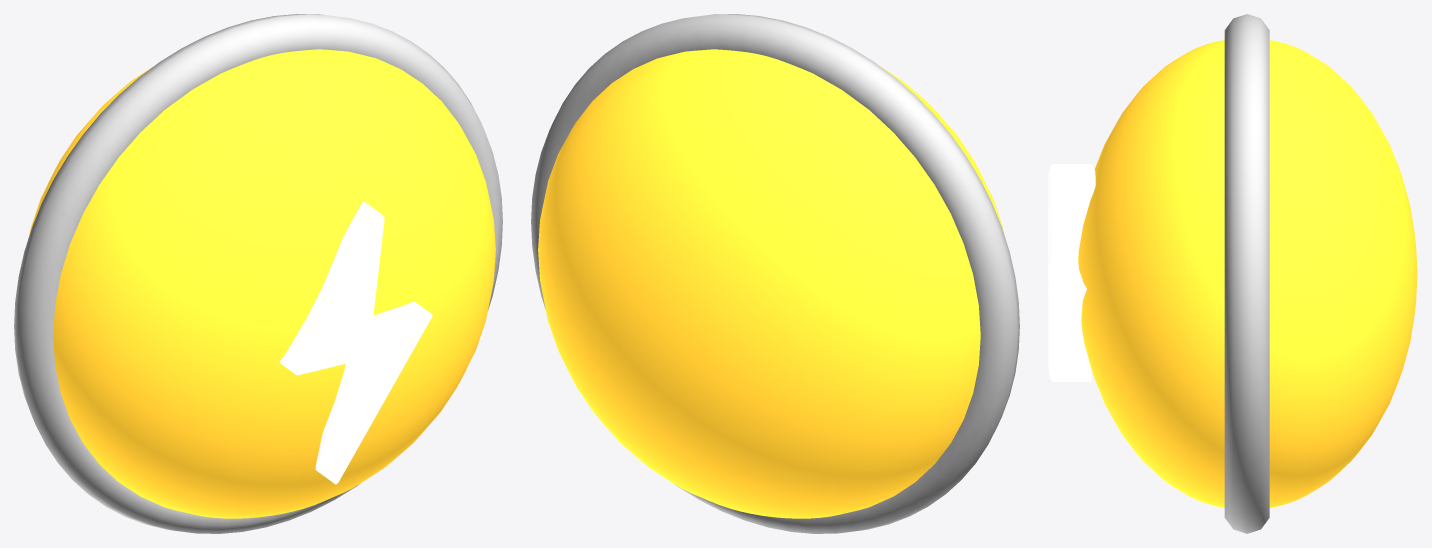
The model's file is bonus_rychla_strelba.glb.
3 renders of one model, left to right at view 1: azimuth 30°, elevation 25°; view 2: azimuth 150°, elevation 25°; view 3: azimuth 270°, elevation 25°, orthographic. The views are drawn at different scales.
Parts seen in each view (by area): view 1: bonus_rychla_strelba_koule, bonus_rychla_strelba_lem, ikona_blesk; view 2: bonus_rychla_strelba_koule, bonus_rychla_strelba_lem; view 3: bonus_rychla_strelba_koule, bonus_rychla_strelba_lem, ikona_blesk.
Part boxes in pixels (x1,y1,x2,y2): bonus_rychla_strelba_koule: (29, 49, 495, 518); bonus_rychla_strelba_lem: (14, 14, 502, 533); ikona_blesk: (279, 201, 432, 484); bonus_rychla_strelba_koule: (538, 49, 1004, 518); bonus_rychla_strelba_lem: (531, 14, 1019, 533); bonus_rychla_strelba_koule: (1078, 40, 1417, 507); bonus_rychla_strelba_lem: (1224, 14, 1269, 533); ikona_blesk: (1048, 164, 1095, 381).
Bounding box in the file's own units: 1.1 × 1.1 × 0.78.
